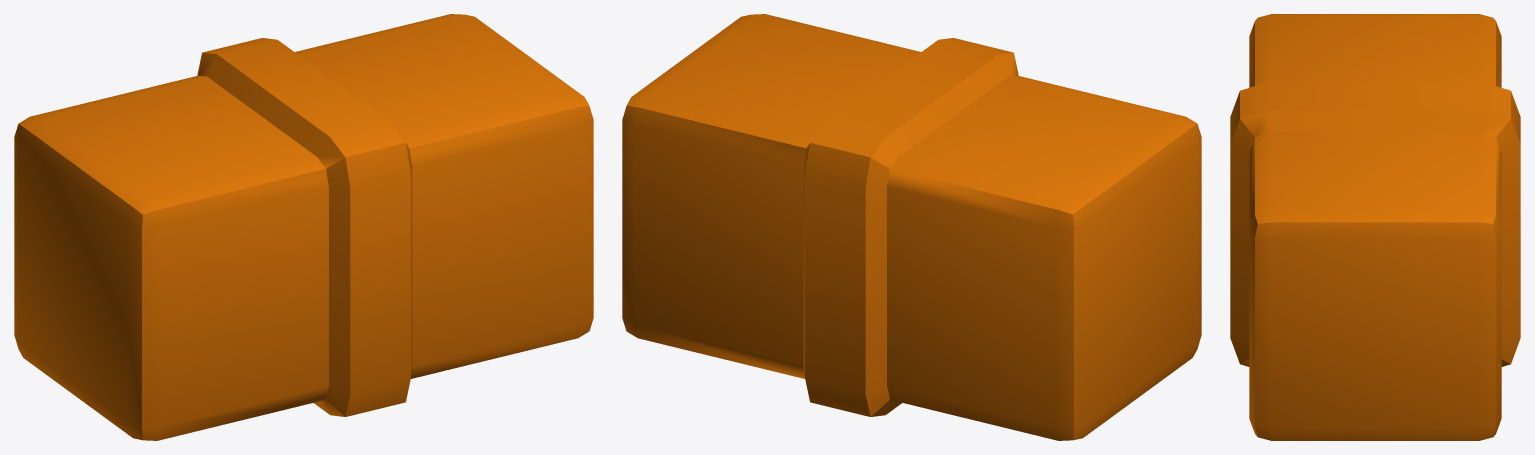
The model's file is SM_Bill01.fbx.
The picture shows the model from 3 angles, left to right: view 1: azimuth 30°, elevation 25°; view 2: azimuth 150°, elevation 25°; view 3: azimuth 270°, elevation 25°; orthographic projection. The views are drawn at different scales.
Parts seen in each view (by area): view 1: SM_Bill01; view 2: SM_Bill01; view 3: SM_Bill01.
Boxes of the visible parts, x1,y1,x2,y2 form: SM_Bill01: (14,14,593,440); SM_Bill01: (622,14,1201,440); SM_Bill01: (1230,14,1520,440).
Bounding box in the file's own units: 50.8 × 29.22 × 29.22.
